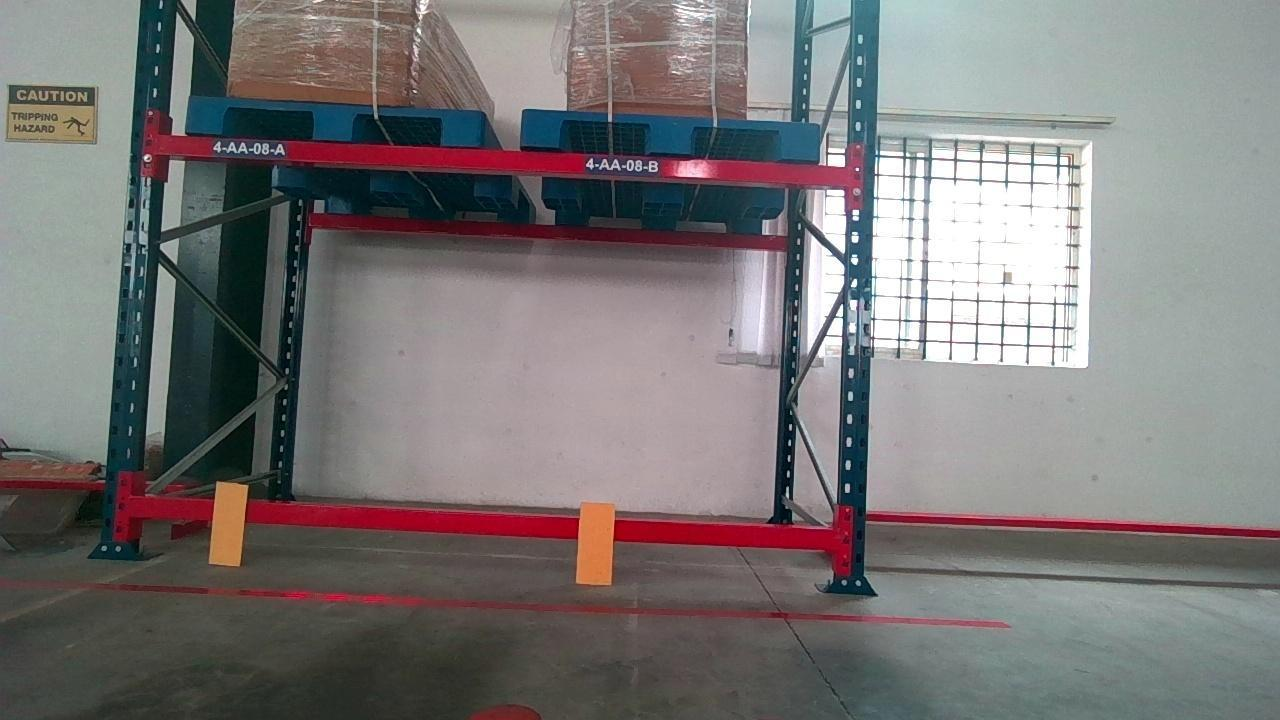h_rack: (155, 137, 859, 187), (126, 500, 838, 547)
orange_strip: (208, 481, 246, 563), (577, 502, 615, 583)
small_pallet: (530, 111, 818, 154), (184, 100, 482, 140)
